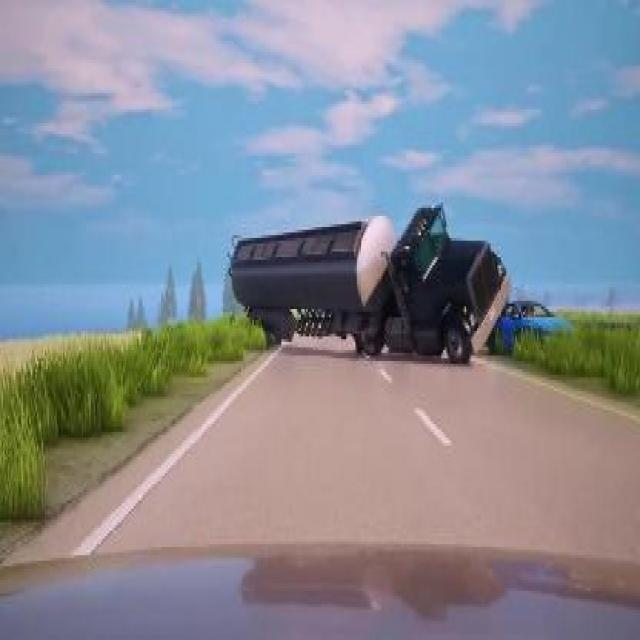accident: (225, 198, 578, 371)
